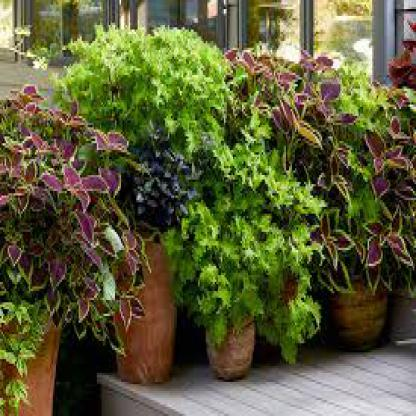Bunga Coleus: (15, 104, 109, 272), (261, 40, 340, 153)
